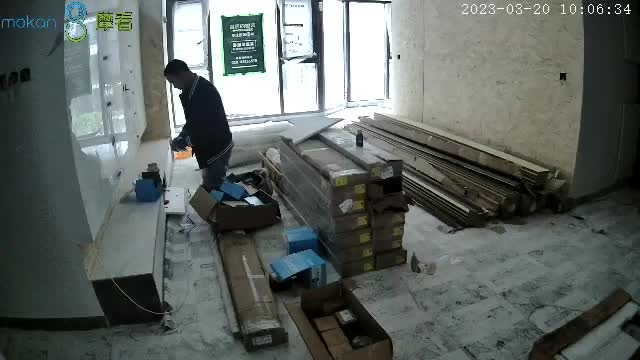people: (163, 59, 234, 188)
window: (169, 1, 394, 118)
